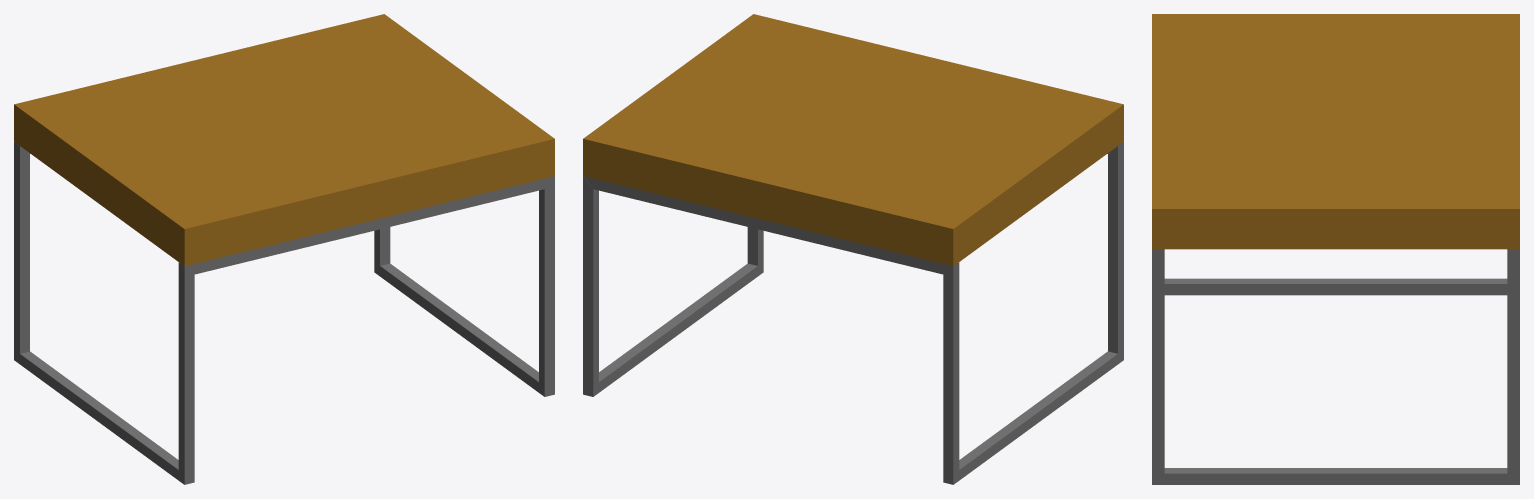
The model's file is dinning table 1.fbx.
3 views of the same model, side by side, from view 1: azimuth 30°, elevation 25°; view 2: azimuth 150°, elevation 25°; view 3: azimuth 270°, elevation 25° (orthographic). The views are drawn at different scales.
Visible parts, largest first — view 1: Cube; view 2: Cube; view 3: Cube.
Boxes of the visible parts, x1=… form: Cube: x1=14, y1=14, x2=554, y2=484; Cube: x1=583, y1=14, x2=1123, y2=484; Cube: x1=1152, y1=14, x2=1519, y2=484.
Size of the model in its own units: 72.75 by 48.03 by 58.
